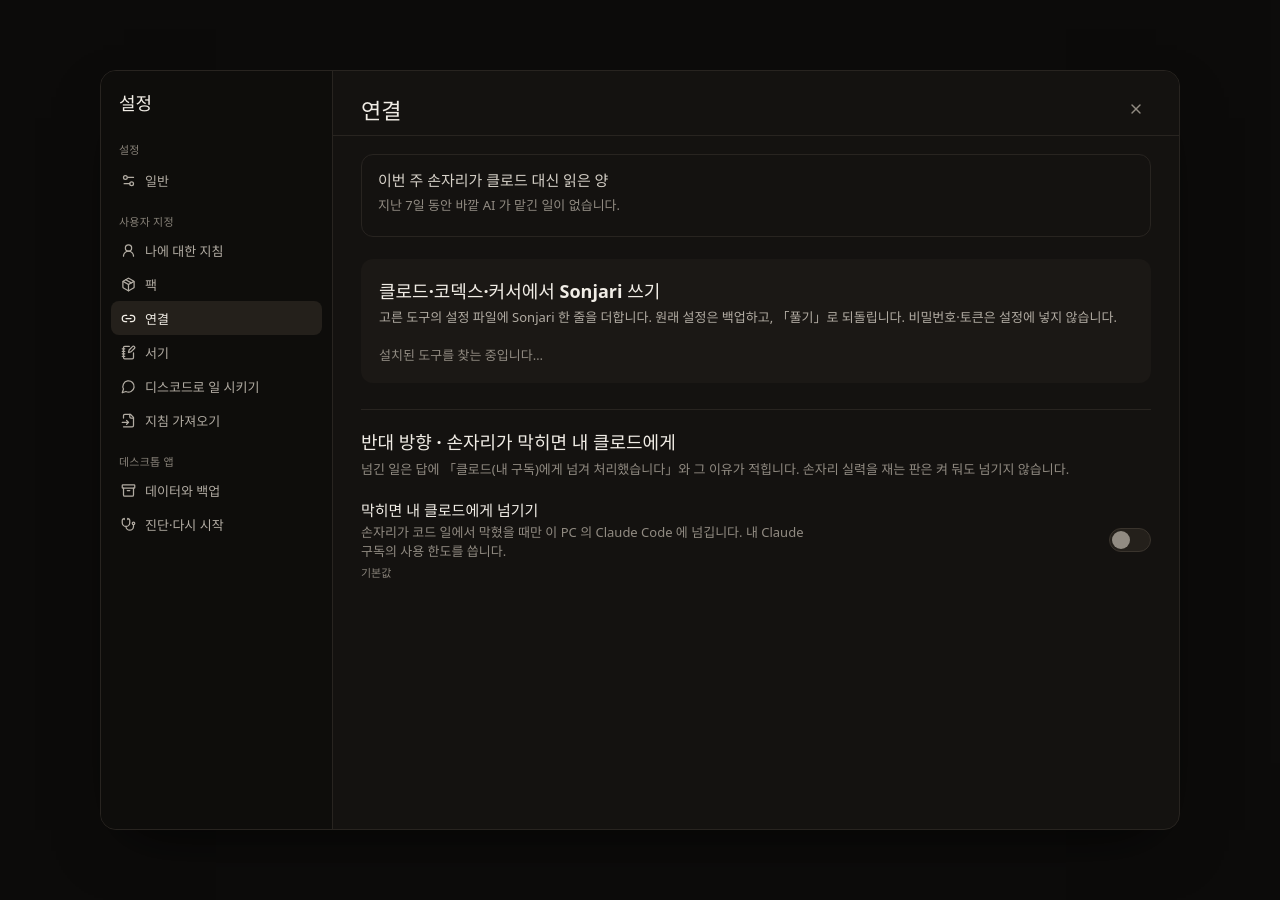
Scenario: 누르면 그 칸만 켜짐으로 저장하고 서버가 돌려준 값으로 다시 그린다
The width and height of the screenshot is (1280, 900).
Click the switch with id "setting-claude_code_enabled" at (1130, 540), box top-left (1109, 528), bottom-right (1151, 552)
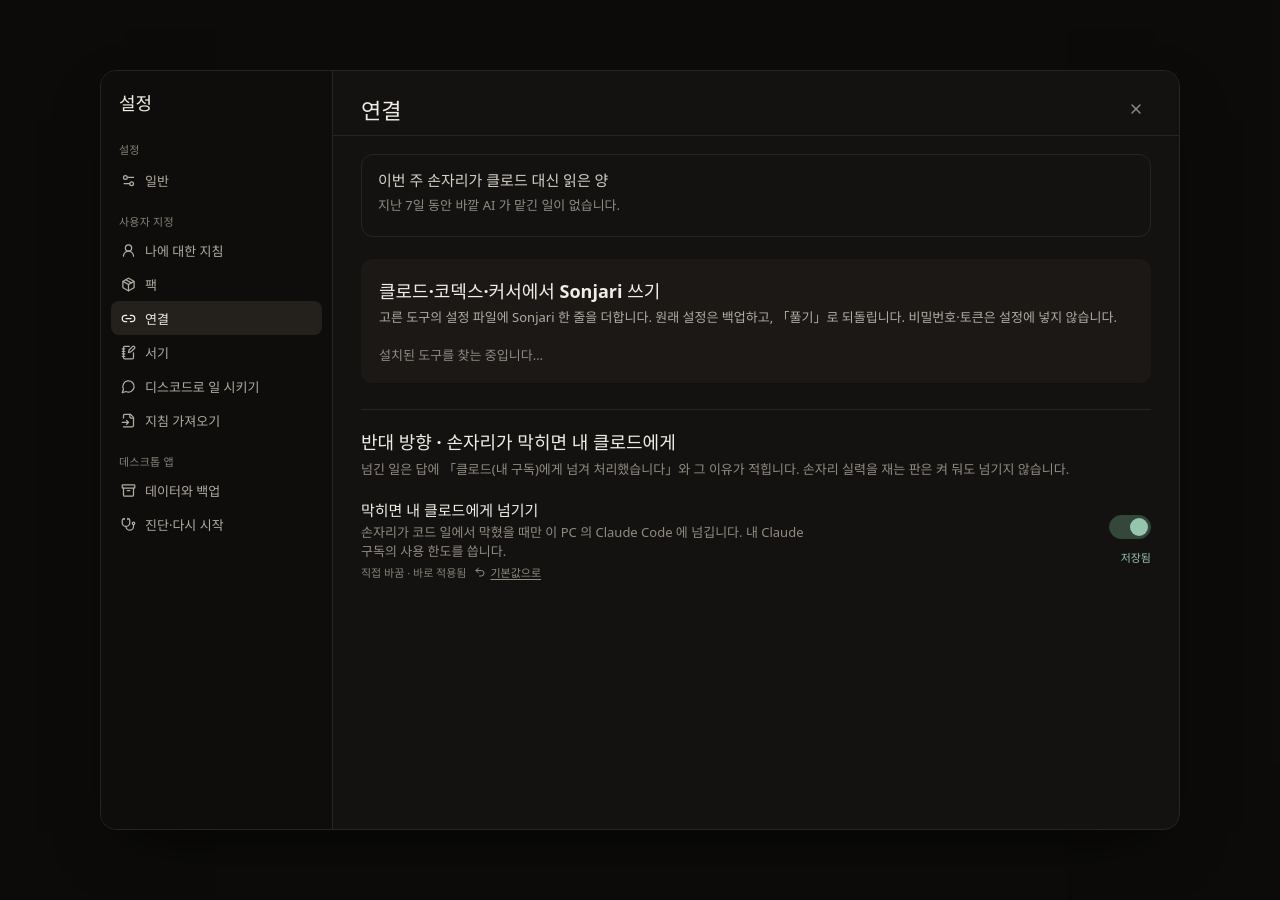
Expected: the list item with id "setting-claude_code_enabled" shows "저장됨", top-left (1121, 550), bottom-right (1151, 565)
